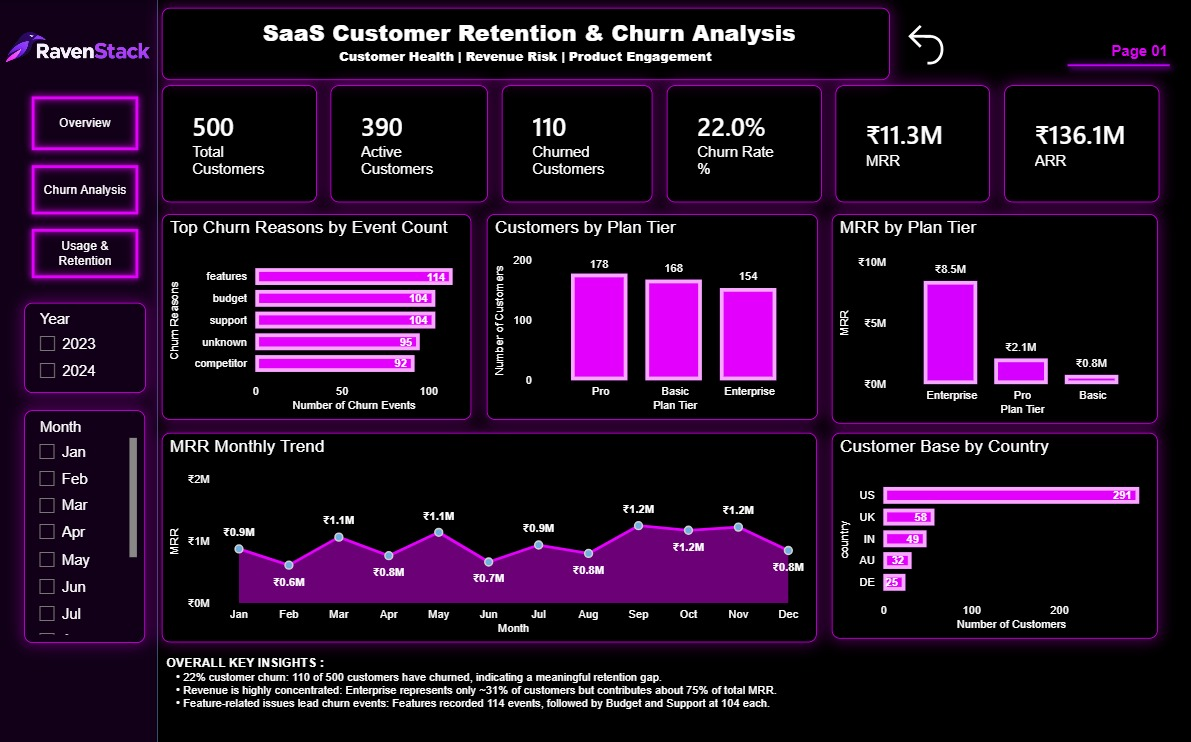

What the dashboard file says about the page in this screenshot:
{"tool":"powerbi","page":{"name":"Executive Overview","canvas":[1280,800],"ordinal":0},"visuals":[{"type":"shape","box":[0,0,171.6,800.3],"z":0},{"type":"cardVisual","fields":{"Data":["ravenstack_accounts.Total Customers"]},"box":[174.9,92.9,166.5,125.5],"z":1000},{"type":"cardVisual","fields":{"Data":["ravenstack_accounts.Active Customers"]},"box":[356.4,92.9,168.9,125.5],"z":2000},{"type":"cardVisual","fields":{"Data":["ravenstack_accounts.Churned Customers"]},"box":[540.2,92.9,161.7,125.5],"z":3000},{"type":"cardVisual","fields":{"Data":["ravenstack_accounts.Churn Rate %"]},"box":[716.9,92.9,166.5,125.5],"z":4000},{"type":"cardVisual","fields":{"Data":["ravenstack_accounts.MRR"]},"box":[898.3,92.9,165.3,125.5],"z":5000},{"type":"cardVisual","fields":{"Data":["ravenstack_accounts.ARR"]},"box":[1078.6,92.9,166.5,125.5],"z":6000},{"type":"lineChart","title":"MRR Monthly Trend","fields":{"Y":["ravenstack_accounts.MRR"],"Category":["DateTable.Month"]},"box":[175.6,465.2,702.6,225],"z":7000},{"type":"clusteredColumnChart","title":"Customers by Plan Tier","fields":{"Category":["ravenstack_accounts.plan_tier"],"Y":["Count(ravenstack_accounts.account_id)"]},"box":[523.7,230.5,355,220.9],"z":8000},{"type":"clusteredBarChart","title":"Top Churn Reasons by Event Count","fields":{"Category":["ravenstack_churn_events.reason_code"],"Y":["CountNonNull(ravenstack_churn_events.churn_event_id)"]},"box":[175.6,230.5,332.1,220.9],"z":9000},{"type":"clusteredColumnChart","title":"MRR by Plan Tier","fields":{"Category":["ravenstack_subscriptions.plan_tier"],"Y":["ravenstack_accounts.MRR"]},"box":[894.7,230.5,349.9,225],"z":10000},{"type":"clusteredBarChart","title":"Customer Base by Country","fields":{"Category":["ravenstack_accounts.country"],"Y":["Count(ravenstack_accounts.account_id)"]},"box":[894.7,465.2,349.9,220.9],"z":11000},{"type":"actionButton","box":[27.7,96.5,130.3,73.6],"z":12000},{"type":"actionButton","box":[27.7,170.1,130.3,68.8],"z":13000},{"type":"actionButton","box":[27.7,238.9,130.3,68.8],"z":14000},{"type":"slicer","fields":{"Values":["DateTable.Year"]},"box":[27.7,325.7,130.3,96.5],"z":15000},{"type":"slicer","fields":{"Values":["DateTable.Month"]},"box":[28.2,441,129.8,249.9],"z":16000},{"type":"textbox","box":[175.6,9.4,780.6,77.2],"z":17000},{"type":"actionButton","box":[967.8,21.4,59,55],"z":18000},{"type":"textbox","box":[175.6,699.7,1069.7,77.7],"z":19000},{"type":"textbox","box":[1188.8,41.6,91.2,29.5],"z":20000},{"type":"shape","box":[1138.1,0,127.3,142.1],"z":21000},{"type":"image","box":[0,0,171.6,92.5],"z":22000}]}

Visuals, with their boxes in screenshot pixels (x1, y1, x2, y2), scaled from the page's 1280x800 canvas onto the 1191x742 screenshot:
shape: 0/0/160/741
cardVisual - ravenstack_accounts.Total Customers: 163/86/318/203
cardVisual - ravenstack_accounts.Active Customers: 332/86/489/203
cardVisual - ravenstack_accounts.Churned Customers: 503/86/653/203
cardVisual - ravenstack_accounts.Churn Rate %: 667/86/822/203
cardVisual - ravenstack_accounts.MRR: 836/86/990/203
cardVisual - ravenstack_accounts.ARR: 1004/86/1159/203
"MRR Monthly Trend" lineChart: 163/431/817/640
"Customers by Plan Tier" clusteredColumnChart: 487/214/818/419
"Top Churn Reasons by Event Count" clusteredBarChart: 163/214/472/419
"MRR by Plan Tier" clusteredColumnChart: 832/214/1158/422
"Customer Base by Country" clusteredBarChart: 832/431/1158/636
actionButton: 26/90/147/158
actionButton: 26/158/147/222
actionButton: 26/222/147/285
slicer - DateTable.Year: 26/302/147/392
slicer - DateTable.Month: 26/409/147/641
textbox: 163/9/890/80
actionButton: 901/20/955/71
textbox: 163/649/1159/721
textbox: 1106/39/1190/66
shape: 1059/0/1177/132
image: 0/0/160/86
